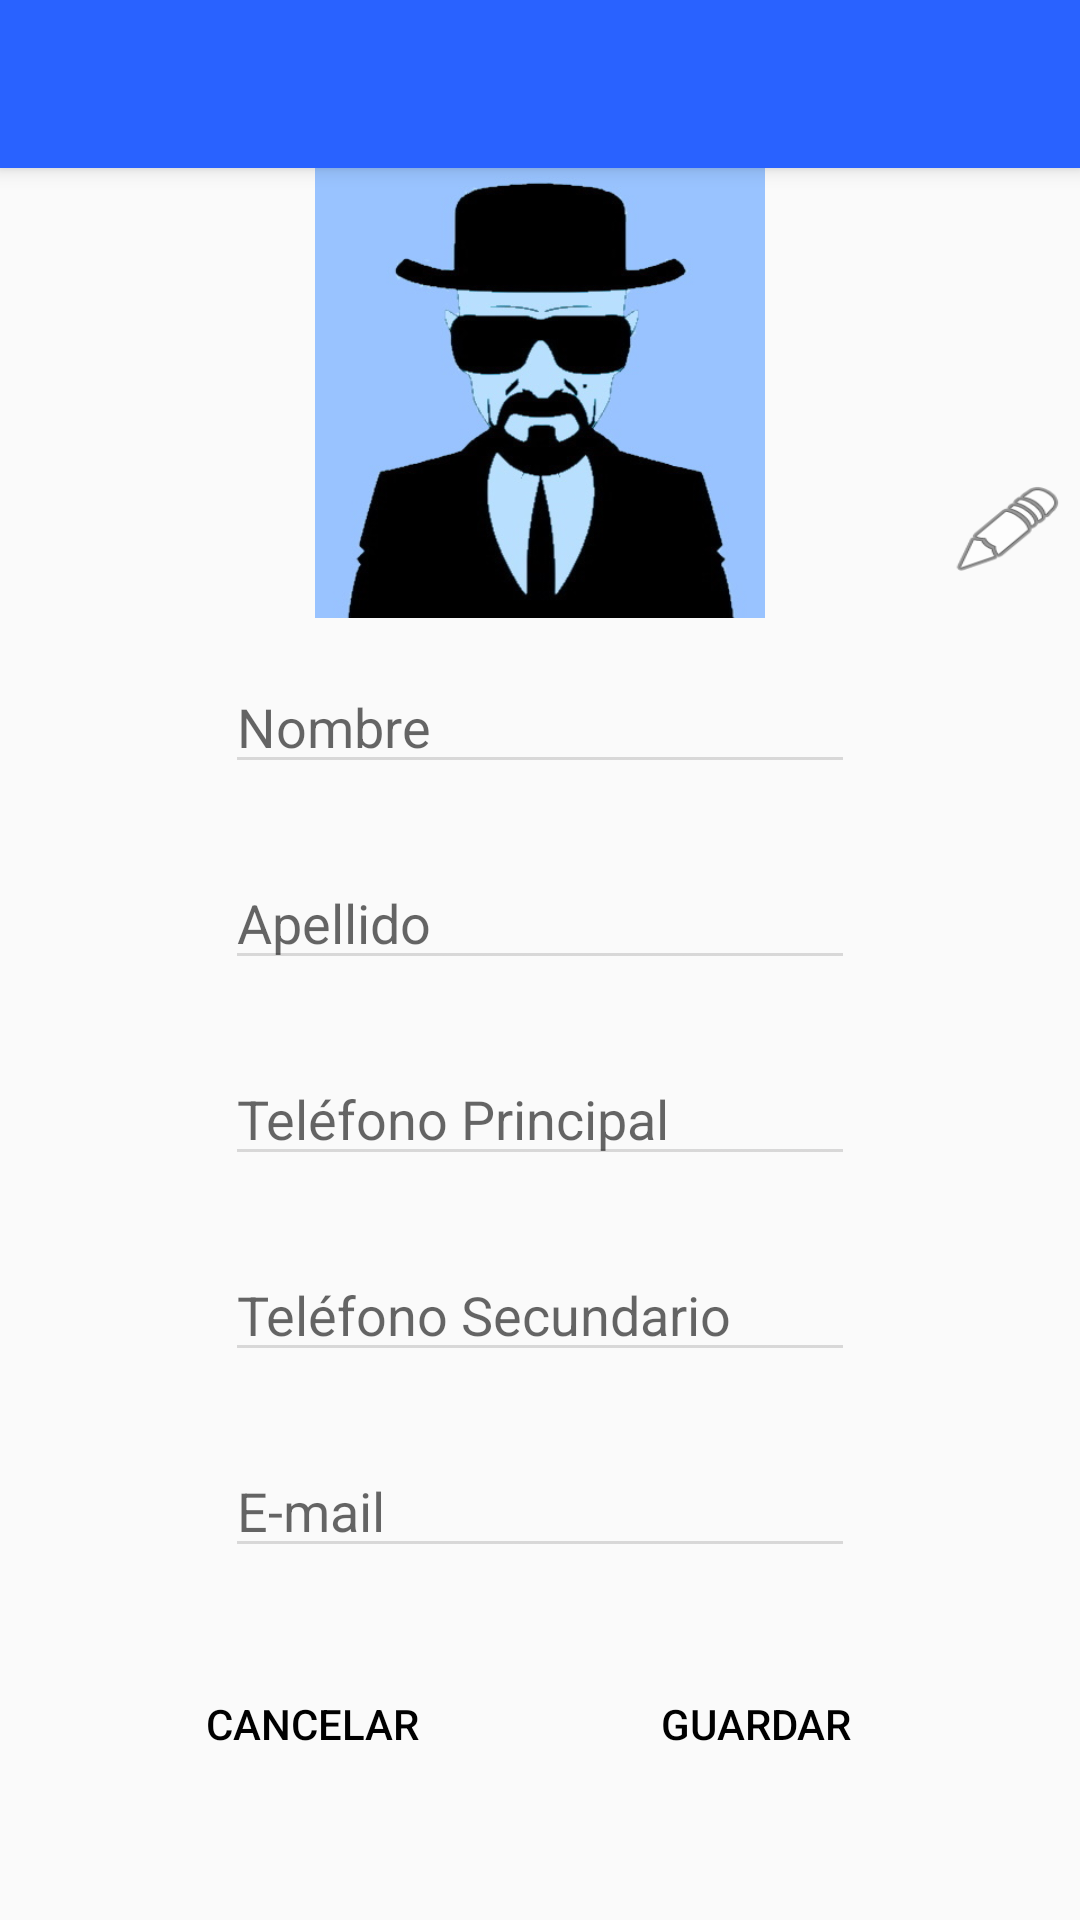

Point at icon controls on the screen. Image size 1080 × 1920, points as (x=x, y=y).
edit: (x=1007, y=529)
